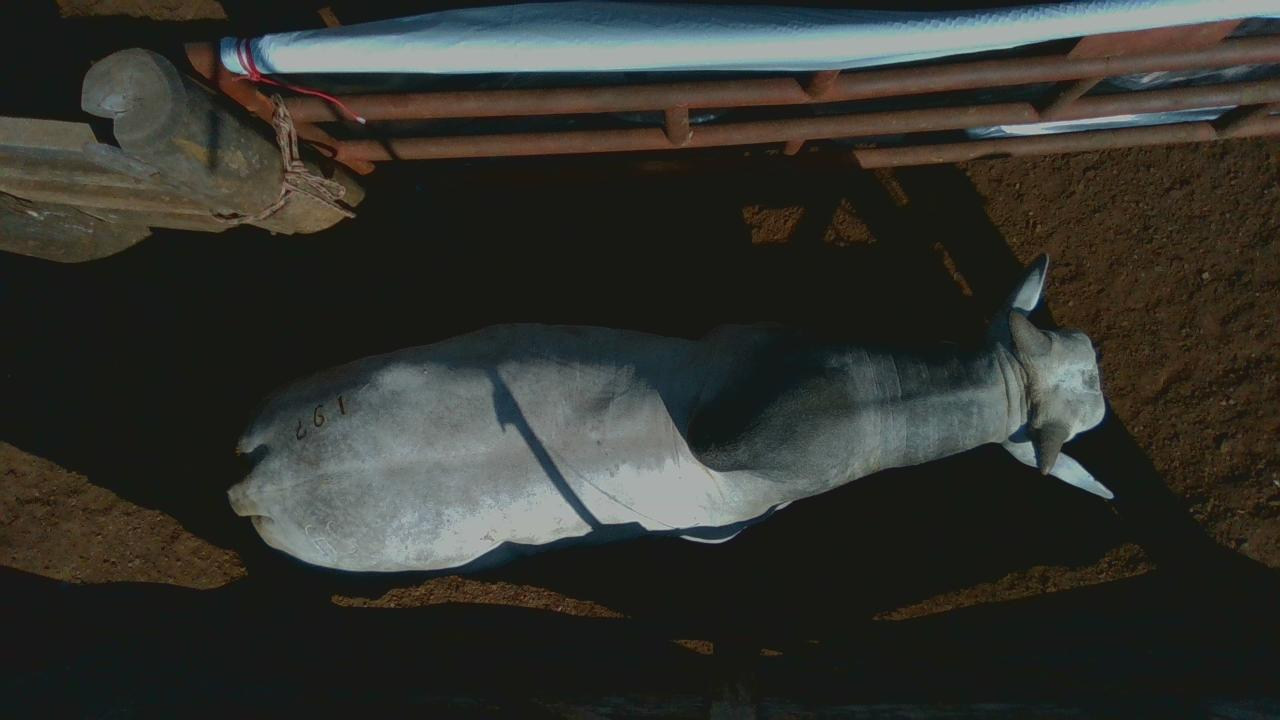cattle: (226, 250, 1116, 575)
